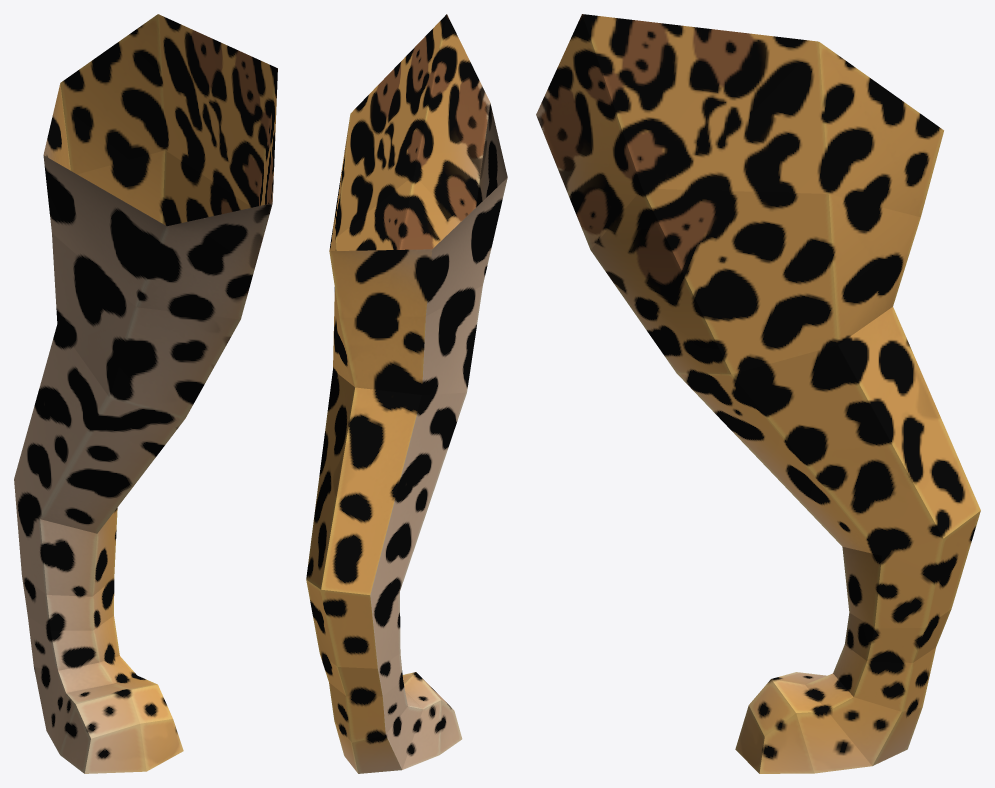
Rendered from PataTIzq.fbx.
3 renders of one model, left to right at view 1: azimuth 30°, elevation 25°; view 2: azimuth 150°, elevation 25°; view 3: azimuth 270°, elevation 25°, orthographic. The views are drawn at different scales.
Parts seen in each view (by area): view 1: Jaguar.003; view 2: Jaguar.003; view 3: Jaguar.003.
Part boxes in pixels (x1,y1,x2,y2): Jaguar.003: [14, 14, 277, 773]; Jaguar.003: [306, 14, 507, 773]; Jaguar.003: [536, 14, 980, 773].
Size of the model in its own units: 76.39 by 464 by 245.
